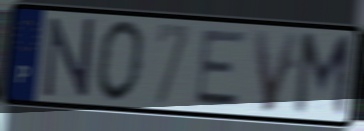7: (153, 20, 195, 109)
E: (192, 29, 251, 109)
M: (291, 31, 354, 121)
N: (42, 16, 96, 100)
O: (94, 18, 148, 106)
V: (251, 28, 303, 115)
